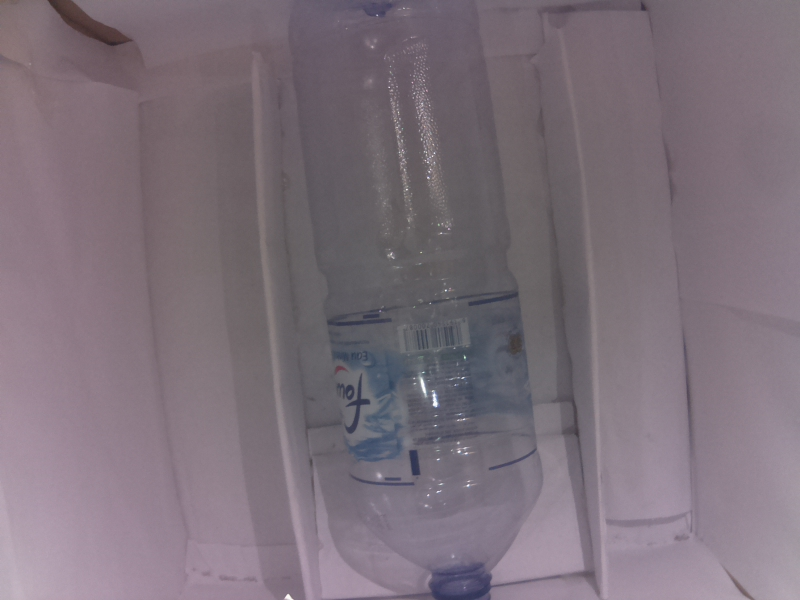botolplastik: (287, 4, 546, 599)
